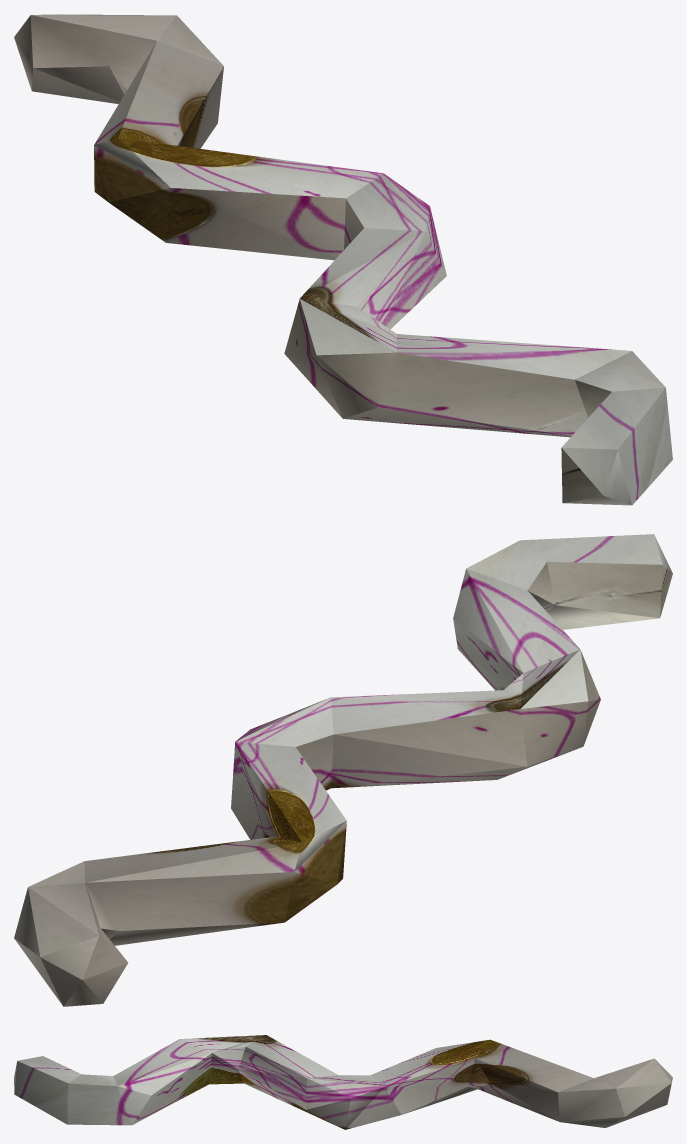
The model's file is trash.obj.
The picture shows the model from 3 angles, top to bottom: view 1: azimuth 30°, elevation 25°; view 2: azimuth 150°, elevation 25°; view 3: azimuth 270°, elevation 25°; orthographic projection. The views are drawn at different scales.
Visible parts, largest first — view 1: Object; view 2: Object; view 3: Object.
Boxes of the visible parts, x1,y1,x2,y2 form: Object: [14, 14, 672, 505]; Object: [14, 534, 672, 1006]; Object: [14, 1035, 672, 1129].
Size of the model in its own units: 0.547 by 0.1831 by 2.44.
